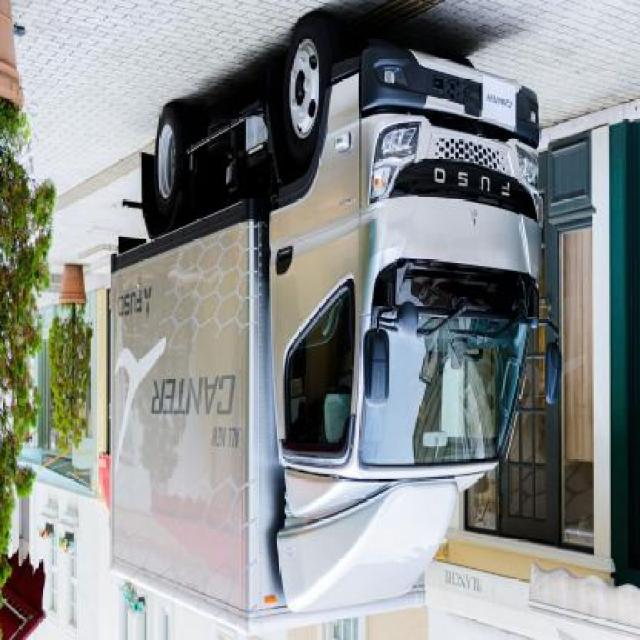truck: (112, 23, 567, 634)
